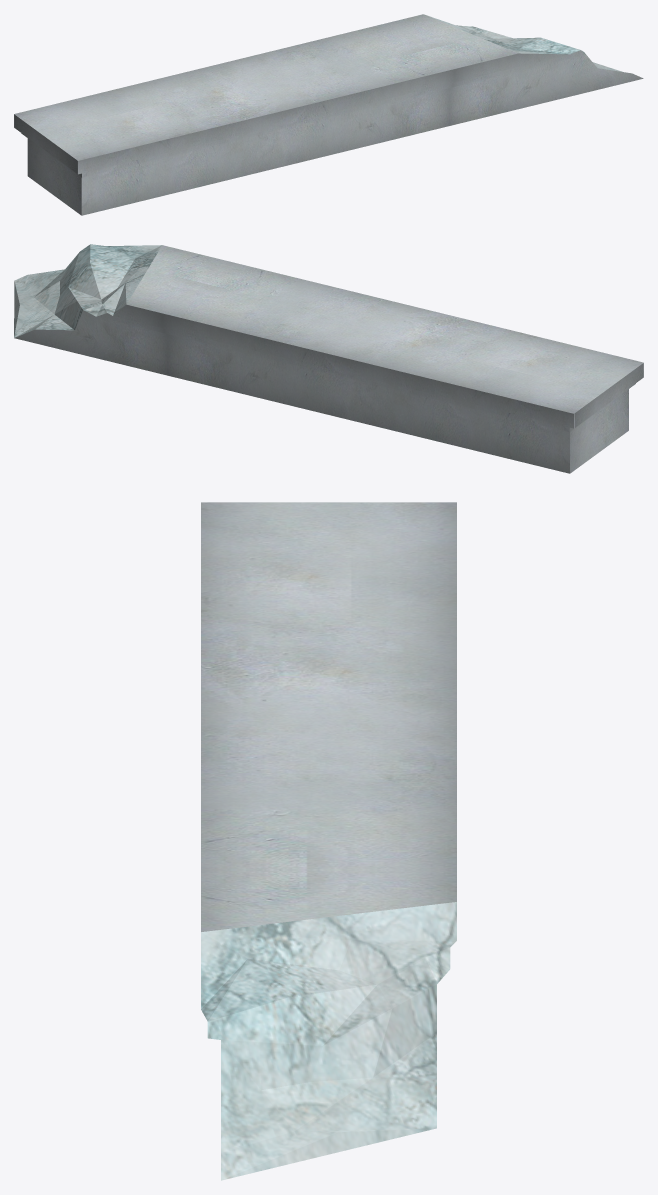
The model's file is BuildingPart1_Broken.fbx.
3 renders of one model, top to bottom at view 1: azimuth 30°, elevation 25°; view 2: azimuth 150°, elevation 25°; view 3: azimuth 270°, elevation 25°, orthographic. The views are drawn at different scales.
Parts seen in each view (by area): view 1: BuildingPart9; view 2: BuildingPart9; view 3: BuildingPart9.
Part boxes in pixels (x1=…): BuildingPart9: x1=14, y1=14, x2=643, y2=215; BuildingPart9: x1=14, y1=244, x2=643, y2=473; BuildingPart9: x1=201, y1=502, x2=456, y2=1180.
Bounding box in the file's own units: 8.9 × 0.9029 × 1.73.
